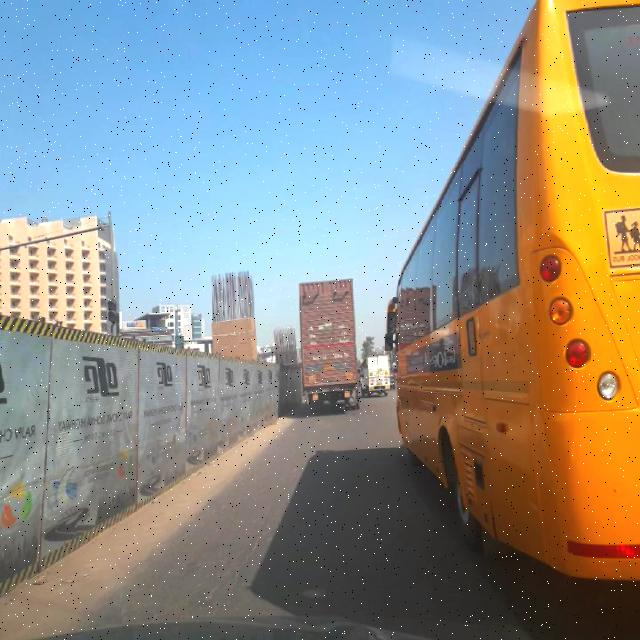D20: (146, 443, 400, 617)
